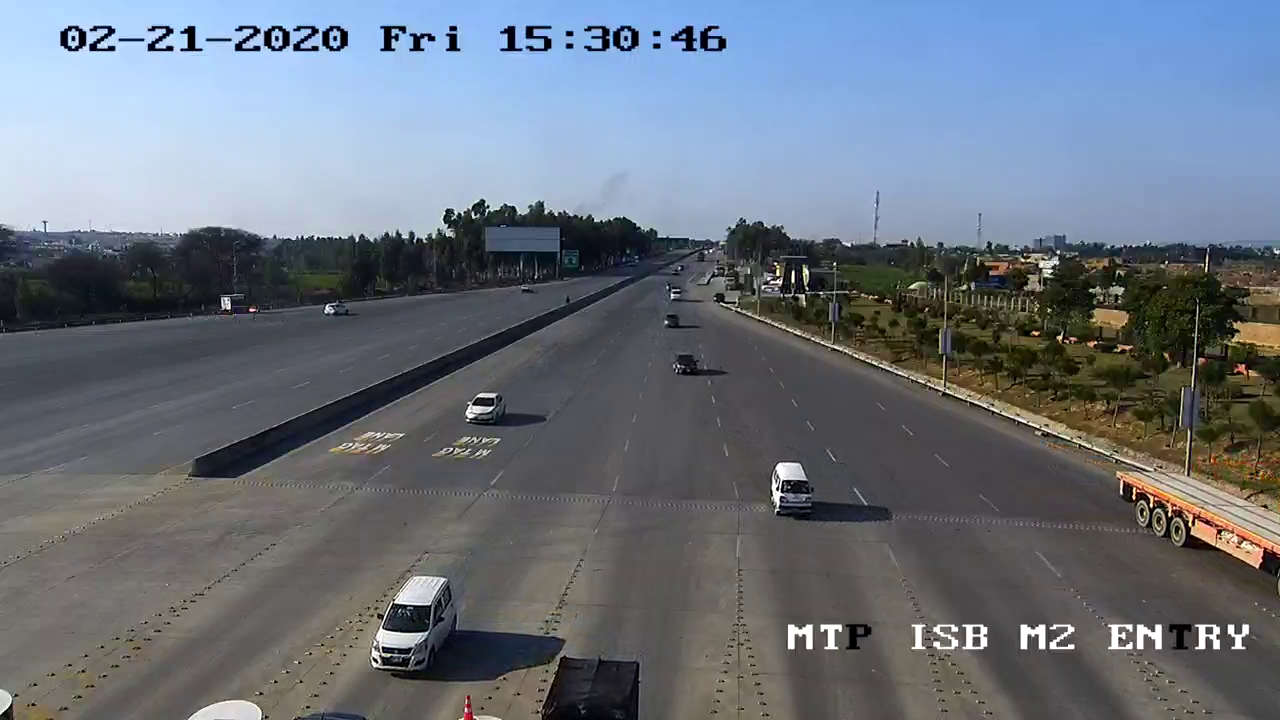f1: (355, 564, 468, 684), (763, 458, 822, 526)
